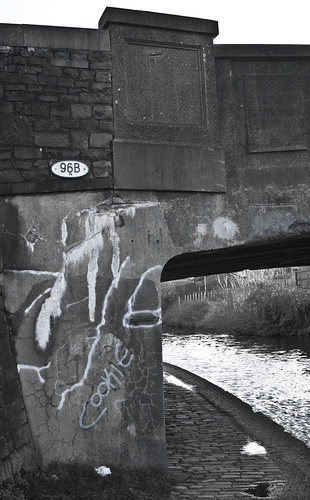bridge: (1, 1, 310, 500)
river: (166, 324, 310, 486)
